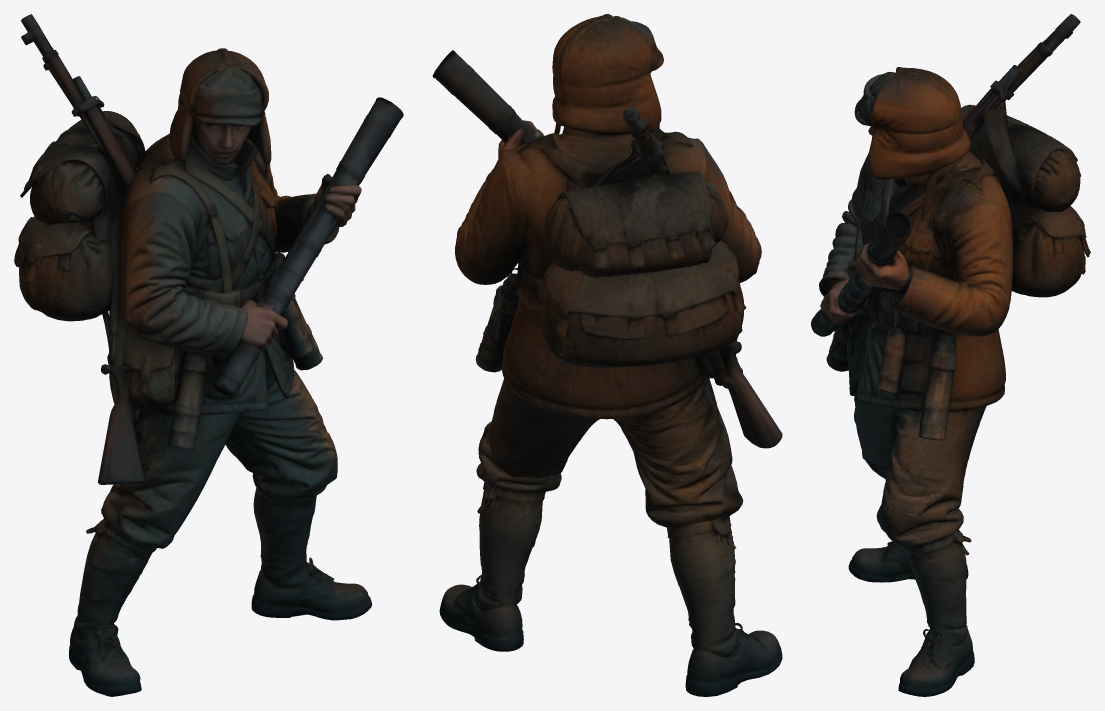
File: char_at.glb
3 views of the same model, side by side, from view 1: azimuth 30°, elevation 25°; view 2: azimuth 150°, elevation 25°; view 3: azimuth 270°, elevation 25° (orthographic). The views are drawn at different scales.
Parts seen in each view (by area): view 1: node_0; view 2: node_0; view 3: node_0.
Part boxes in pixels (x1,y1,x2,y2): node_0: (14,14,403,696); node_0: (432,14,782,696); node_0: (811,14,1090,696).
Bounding box in the file's own units: 0.6133 × 1.05 × 0.4682.
Materials: 1 (1 with a texture image).
